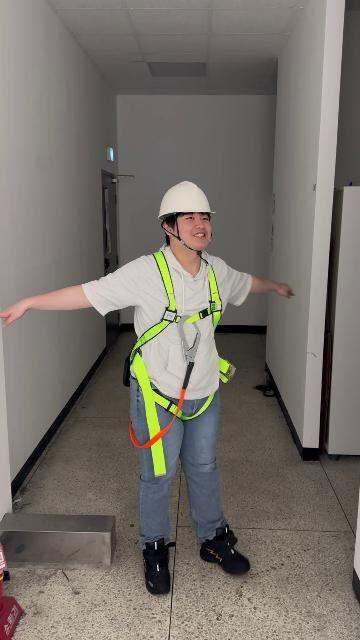helmet_worn: (156, 180, 217, 222)
shoe_worn: (199, 524, 249, 575), (141, 538, 172, 593)
vest_worn: (124, 254, 233, 455)
